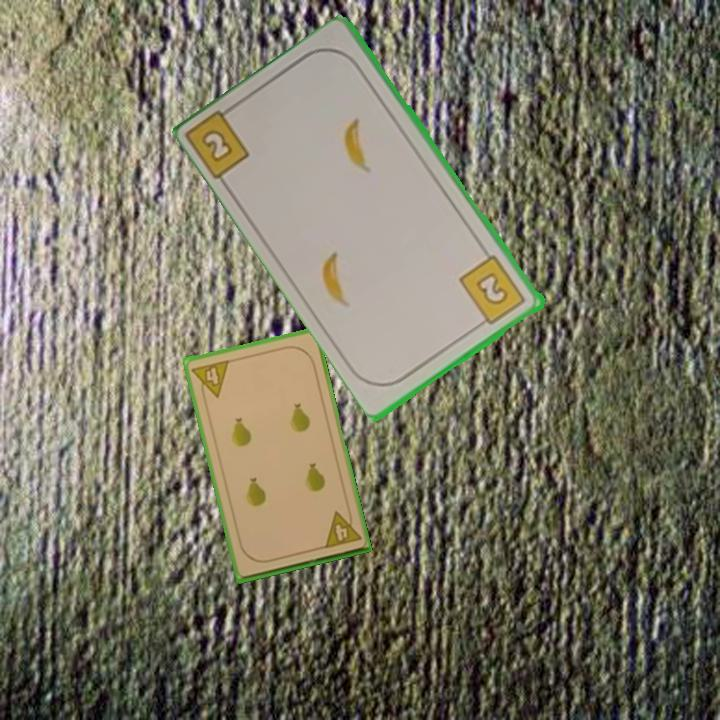2b: (185, 99, 254, 184), (456, 251, 529, 331)
4p: (188, 356, 232, 402), (320, 505, 364, 551)
